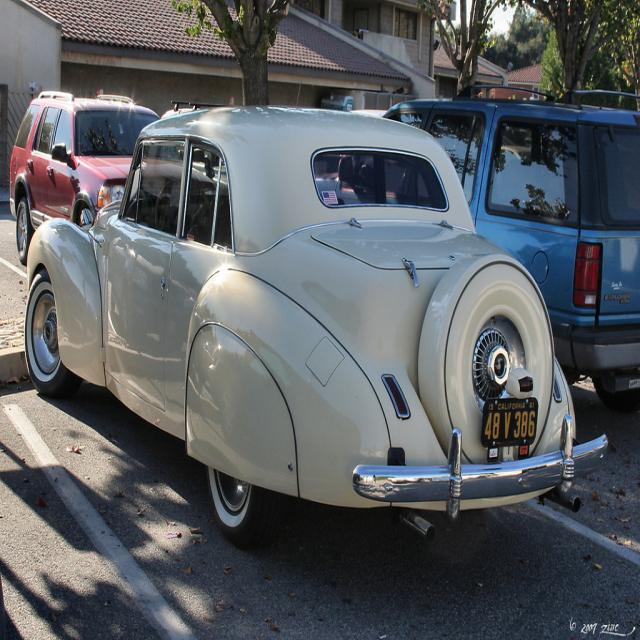car: (0, 115, 579, 552)
